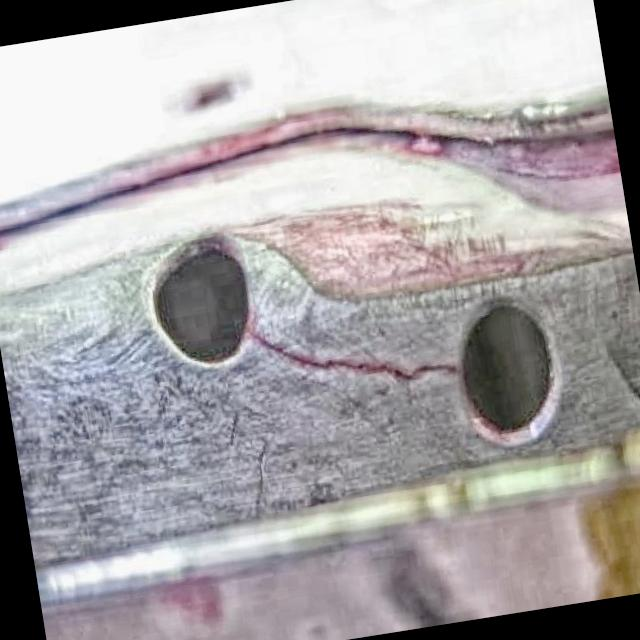crack: (288, 347, 351, 379), (351, 359, 418, 386), (250, 326, 288, 360), (416, 360, 456, 382)
